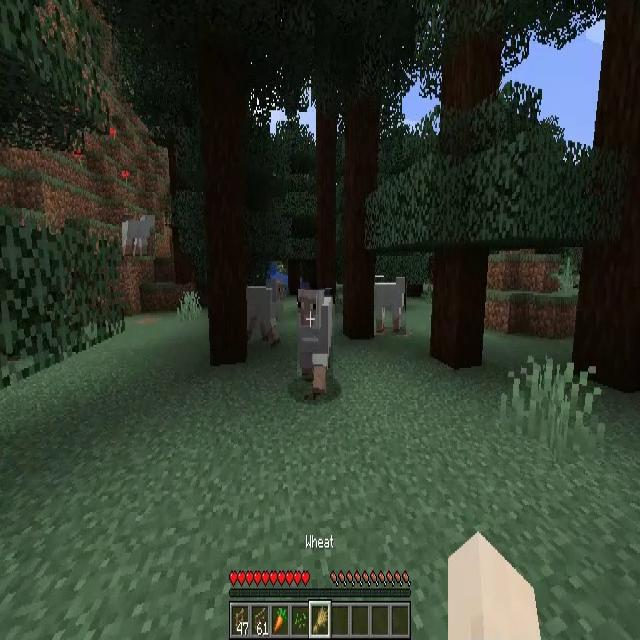sheep: (297, 289, 333, 395), (247, 282, 282, 346), (374, 277, 406, 335), (122, 215, 155, 260)
